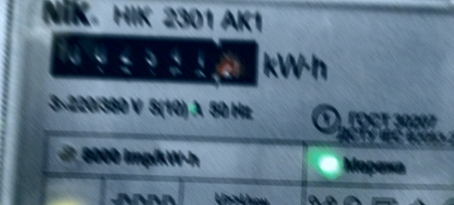0: (65, 38, 84, 65), (93, 37, 108, 64)
1: (193, 40, 207, 68)
2: (117, 38, 134, 64)
4: (169, 40, 183, 64)
5: (142, 38, 161, 67)
6: (219, 59, 235, 77)
screen: (37, 15, 274, 98)
